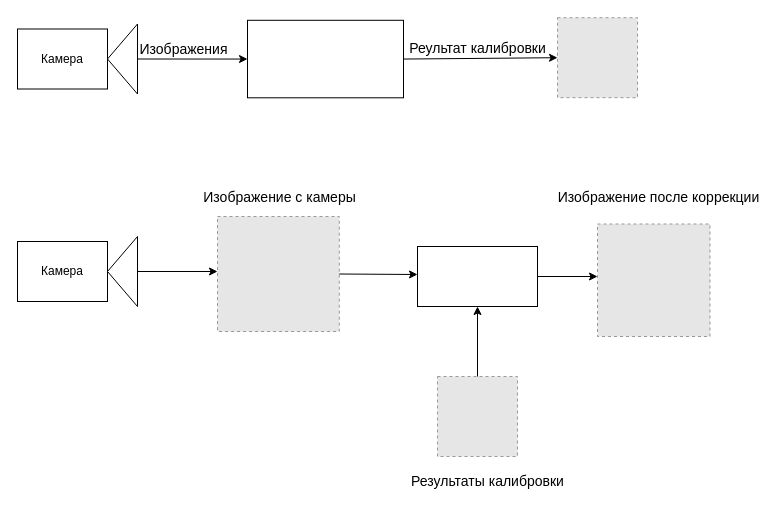
Image size: 776x514. Some labels were removed from this diagram. Grey dashed boxes stand in for pictures. Here are the shapes that lost their labels. From the top down, the box of each, then its label:
(246, 19, 404, 98): ПО для калибровки камеры
(416, 246, 538, 306): Алгоритм коррекции
